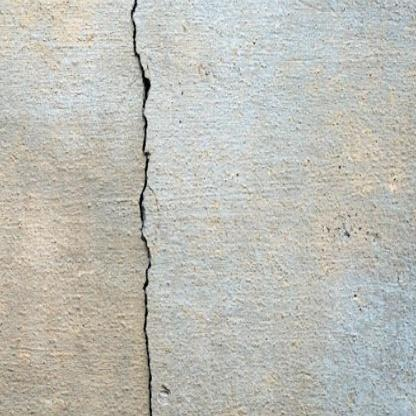Cracks: (128, 0, 161, 416)
